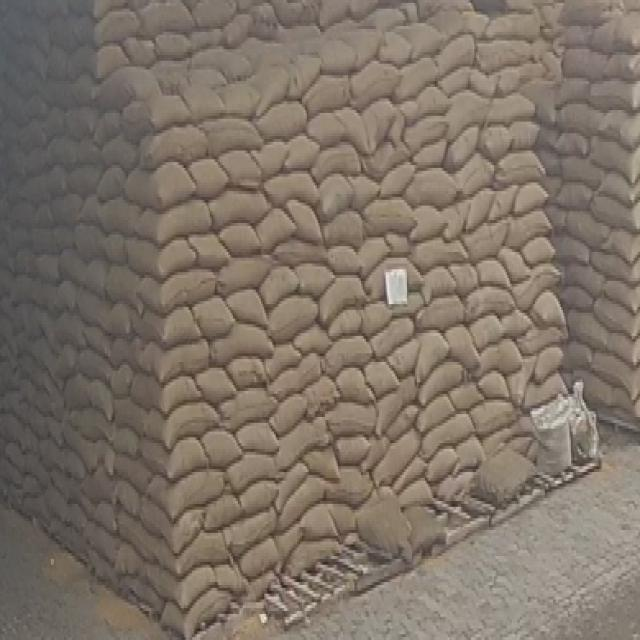Sack-2: (203, 468, 280, 538), (415, 343, 477, 413), (154, 187, 212, 256), (400, 158, 469, 216), (500, 195, 555, 264), (253, 290, 327, 340), (517, 304, 568, 374), (404, 323, 456, 391), (268, 343, 323, 406), (479, 113, 545, 164), (277, 465, 325, 534), (165, 467, 219, 527), (438, 319, 487, 382), (372, 150, 426, 207), (589, 179, 640, 239), (220, 382, 276, 433), (489, 147, 546, 197), (591, 128, 640, 186), (265, 131, 320, 182), (417, 376, 458, 444), (374, 426, 416, 492), (421, 406, 472, 460), (219, 251, 270, 304), (525, 282, 571, 340), (152, 334, 205, 384), (508, 262, 560, 312), (152, 269, 213, 311), (555, 206, 613, 250), (218, 319, 267, 370), (507, 171, 552, 226), (157, 400, 210, 446), (277, 414, 320, 469), (179, 527, 224, 579), (205, 186, 262, 227), (414, 388, 457, 442), (170, 498, 205, 564), (143, 431, 200, 471), (389, 56, 436, 104), (529, 335, 570, 390), (589, 243, 640, 287), (330, 419, 368, 478), (150, 158, 192, 211), (178, 587, 222, 637), (347, 62, 394, 108), (157, 227, 193, 287), (554, 95, 604, 138), (185, 299, 237, 340), (554, 150, 608, 189), (431, 31, 472, 82), (475, 357, 514, 410), (548, 178, 605, 214), (598, 105, 638, 156), (323, 458, 364, 507), (442, 123, 479, 177), (300, 442, 347, 484), (559, 256, 608, 296), (159, 298, 198, 348), (595, 295, 640, 338), (441, 375, 488, 416), (262, 172, 322, 204), (258, 256, 292, 312), (284, 200, 324, 247), (254, 109, 314, 140), (451, 153, 488, 203), (552, 278, 598, 318), (206, 417, 240, 471), (156, 367, 196, 412), (256, 204, 290, 256), (599, 223, 640, 264), (199, 358, 236, 403), (552, 225, 592, 266), (273, 384, 302, 440), (178, 564, 210, 614), (557, 124, 595, 166), (465, 186, 495, 238), (569, 313, 610, 351), (599, 272, 640, 310), (602, 328, 640, 368), (589, 81, 638, 112), (597, 356, 640, 391), (275, 460, 305, 510), (407, 202, 444, 242), (600, 168, 640, 205), (294, 262, 329, 302), (262, 341, 297, 381), (296, 316, 330, 356), (562, 68, 596, 108), (274, 240, 333, 262), (521, 230, 553, 270), (212, 558, 247, 594), (608, 15, 638, 56), (191, 230, 220, 271), (189, 157, 219, 192), (557, 336, 594, 364), (606, 51, 638, 78)
